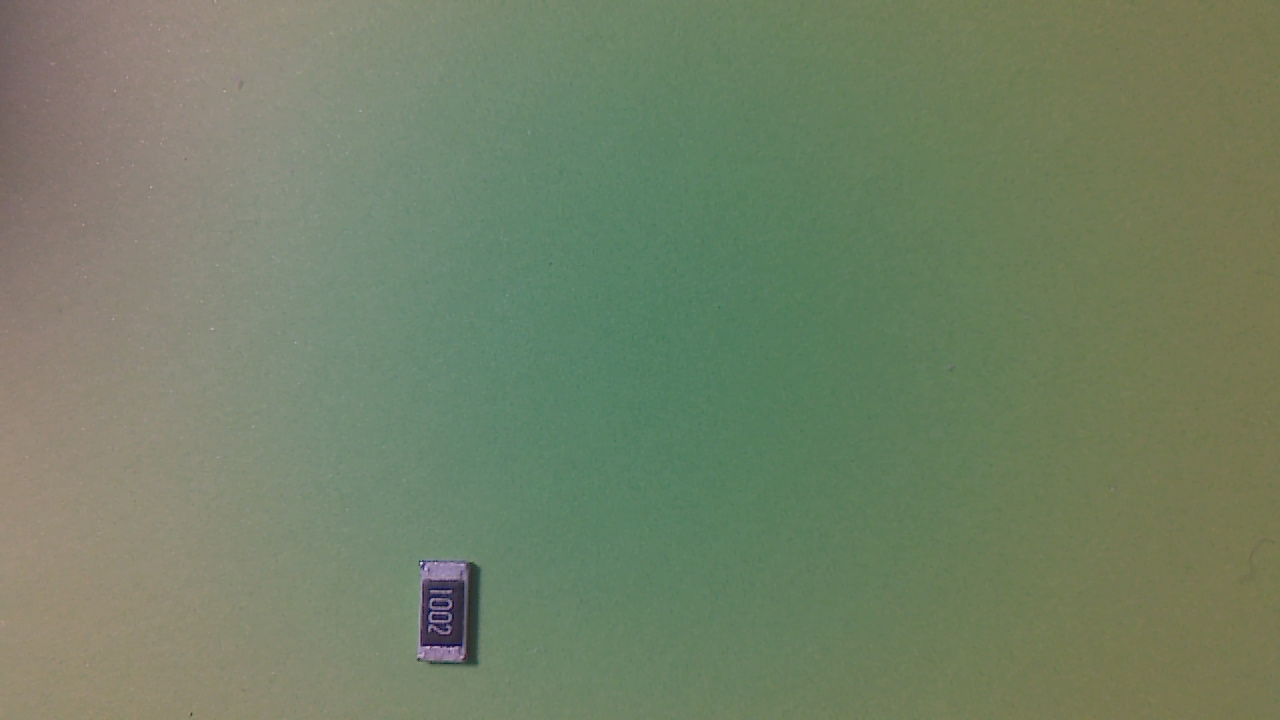Resistor: (416, 561, 486, 674)
